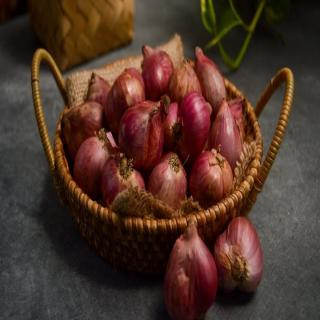Bawang Merah: (63, 36, 246, 213)
